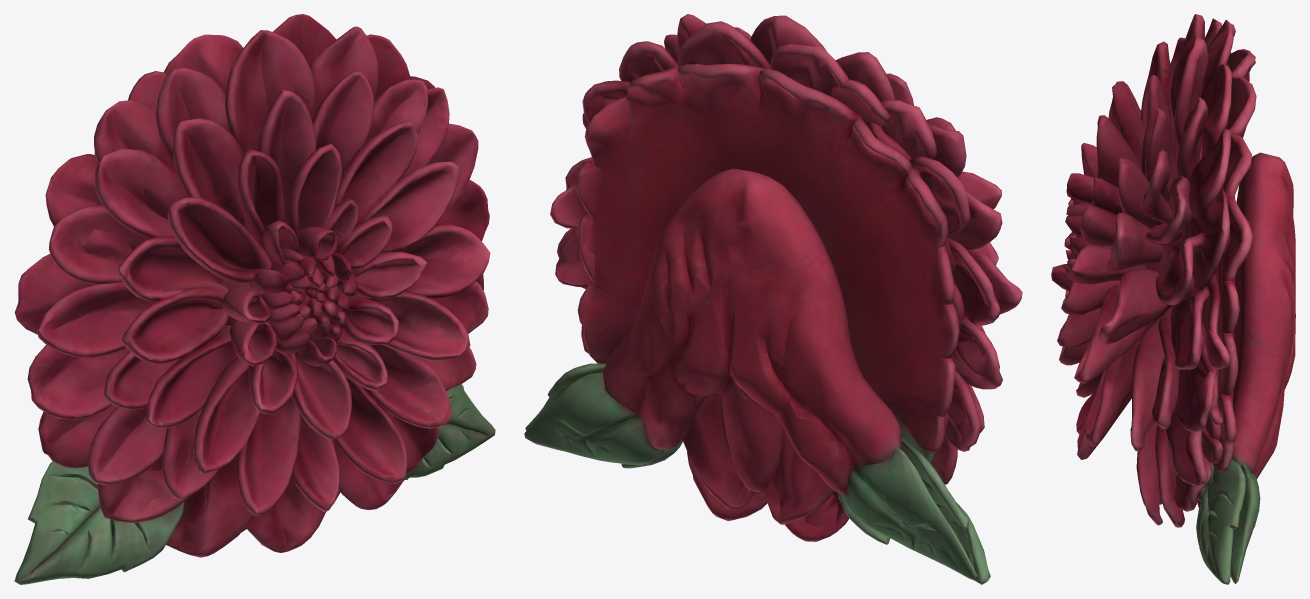
Rendered from burgundy_dahlia.glb.
3 views of the same model, side by side, from view 1: azimuth 30°, elevation 25°; view 2: azimuth 150°, elevation 25°; view 3: azimuth 270°, elevation 25° (orthographic). The views are drawn at different scales.
Parts seen in each view (by area): view 1: model; view 2: model; view 3: model.
Boxes of the visible parts, left/top/right/bottom form: model: left=14, top=14, right=495, bottom=584; model: left=524, top=14, right=1022, bottom=584; model: left=1051, top=14, right=1295, bottom=584.
Size of the model in its own units: 1.86 by 1.91 by 0.8867.
1 material, 1 textured.
